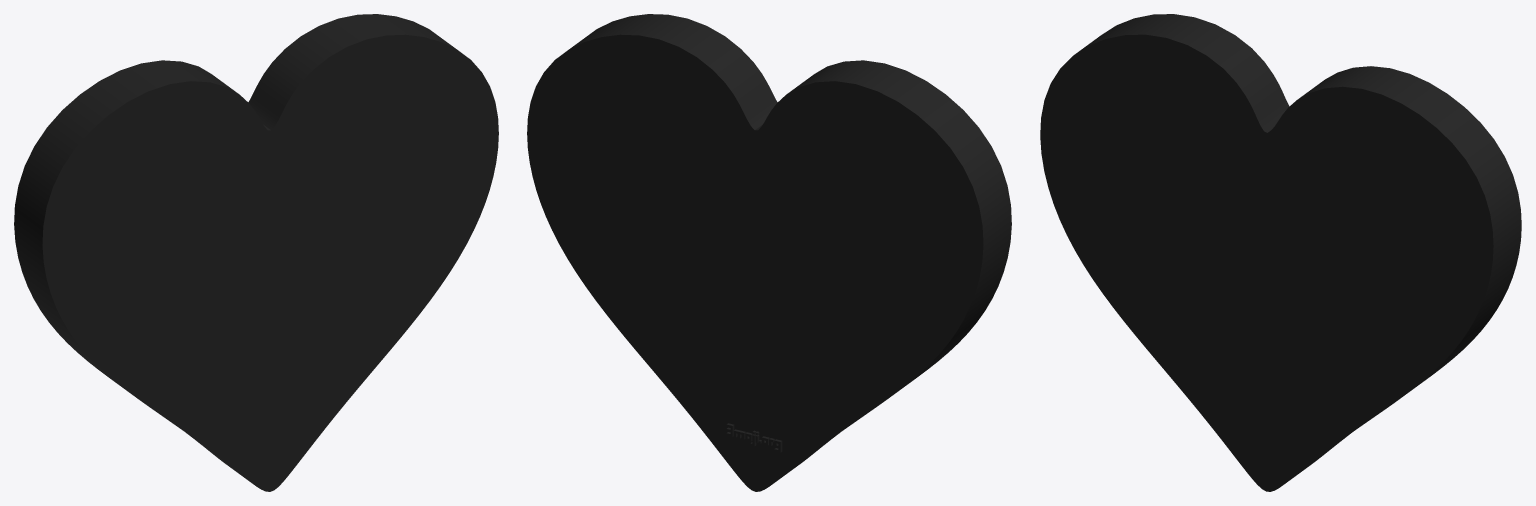
The model's file is heart_suit.glb.
3 renders of one model, left to right at view 1: azimuth 30°, elevation 25°; view 2: azimuth 150°, elevation 25°; view 3: azimuth 330°, elevation 25°, orthographic.
Visible parts, largest first — view 1: hfdjkslfjkds.030; view 2: hfdjkslfjkds.030; view 3: hfdjkslfjkds.030.
Boxes of the visible parts, x1=… form: hfdjkslfjkds.030: x1=14, y1=14, x2=498, y2=491; hfdjkslfjkds.030: x1=527, y1=14, x2=1011, y2=491; hfdjkslfjkds.030: x1=1040, y1=14, x2=1521, y2=491.
Bounding box in the file's own units: 2.23 × 2.01 × 0.2546.
Materials: 1 (1 with a texture image).
